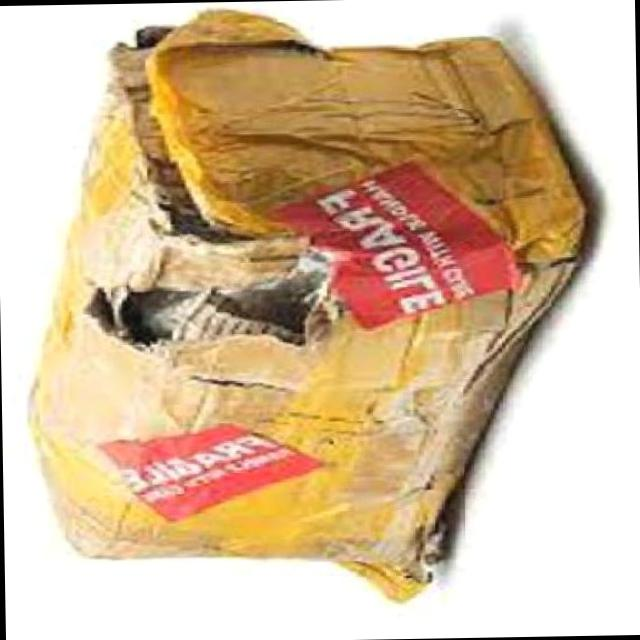box: (26, 8, 586, 605)
crushed: (34, 9, 587, 598)
tear: (81, 79, 345, 354)
